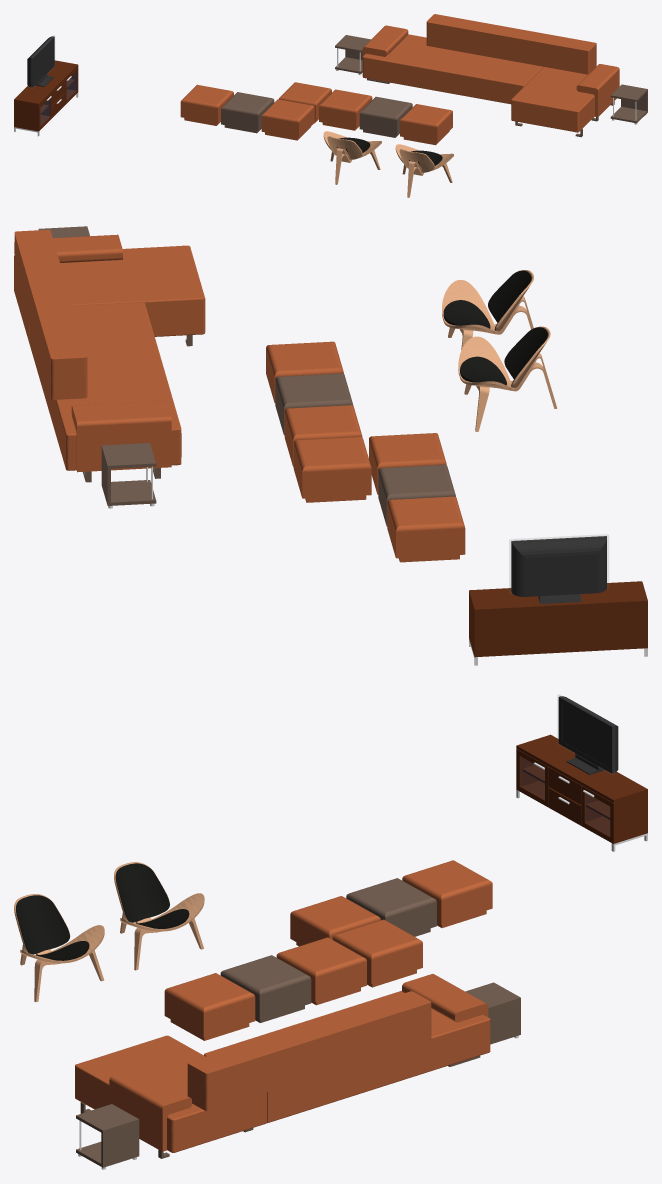
Rendered from rac_basic_sample_project_Level_1_Living_Rm_IfcFurnishingElement.dae.
3 renders of one model, top to bottom at view 1: azimuth 30°, elevation 25°; view 2: azimuth 150°, elevation 25°; view 3: azimuth 270°, elevation 25°, orthographic. The views are drawn at different scales.
Parts seen in each view (by area): view 1: 1hb7CWkynF4vPDja0y_oQN, 2PbrheIID1GfgGRPO3yx$6, 2PbrheIID1GfgGRPO3yxga, 1hb7CWkynF4vPDja0y_oEs, 2PbrheIID1GfgGRPO3yxeK, 2PbrheIID1GfgGRPO3yxiy, 2PbrheIID1GfgGRPO3yxjg, 2PbrheIID1GfgGRPO3yaMM, 20nhVaBTTAJguMI9o6oDPn, 1N_4TwOEH5194SbNmRTFml, 1mNYMX4dvDThNrJdPk$sEy, 1mNYMX4dvDThNrJdPk$ta$ (+2 smaller); view 2: 1hb7CWkynF4vPDja0y_oQN, 2PbrheIID1GfgGRPO3yx$6, 1mNYMX4dvDThNrJdPk$ta$, 2PbrheIID1GfgGRPO3yxiy, 2PbrheIID1GfgGRPO3yxeS, 1N_4TwOEH5194SbNmRTFml, 20nhVaBTTAJguMI9o6oDPn, 1mNYMX4dvDThNrJdPk$tmD, 2PbrheIID1GfgGRPO3yaMM, 2PbrheIID1GfgGRPO3yxjg, 2PbrheIID1GfgGRPO3yxeK, 1hb7CWkynF4vPDja0y_oEs (+1 smaller); view 3: 1hb7CWkynF4vPDja0y_oQN, 2PbrheIID1GfgGRPO3yx$6, 1hb7CWkynF4vPDja0y_oEs, 20nhVaBTTAJguMI9o6oDPn, 1N_4TwOEH5194SbNmRTFml, 2PbrheIID1GfgGRPO3yaMM, 2PbrheIID1GfgGRPO3yxiy, 2PbrheIID1GfgGRPO3yxeS, 2PbrheIID1GfgGRPO3yxeK, 1mNYMX4dvDThNrJdPk$ta$, 2PbrheIID1GfgGRPO3yxjg, 1mNYMX4dvDThNrJdPk$sEy (+2 smaller).
Boxes of the visible parts, bbox=[...] form: 1hb7CWkynF4vPDja0y_oQN: bbox=[362, 14, 619, 137]; 2PbrheIID1GfgGRPO3yx$6: bbox=[14, 60, 78, 136]; 2PbrheIID1GfgGRPO3yxga: bbox=[261, 99, 314, 140]; 1hb7CWkynF4vPDja0y_oEs: bbox=[400, 104, 452, 145]; 2PbrheIID1GfgGRPO3yxeK: bbox=[319, 89, 372, 130]; 2PbrheIID1GfgGRPO3yxiy: bbox=[180, 84, 233, 125]; 2PbrheIID1GfgGRPO3yxjg: bbox=[221, 92, 274, 133]; 2PbrheIID1GfgGRPO3yaMM: bbox=[359, 96, 412, 137]; 20nhVaBTTAJguMI9o6oDPn: bbox=[395, 144, 453, 197]; 1N_4TwOEH5194SbNmRTFml: bbox=[323, 131, 381, 184]; 1mNYMX4dvDThNrJdPk$sEy: bbox=[610, 84, 647, 124]; 1mNYMX4dvDThNrJdPk$ta$: bbox=[27, 35, 54, 88]; 1hb7CWkynF4vPDja0y_oQN: bbox=[14, 229, 205, 482]; 2PbrheIID1GfgGRPO3yx$6: bbox=[469, 581, 647, 665]; 1mNYMX4dvDThNrJdPk$ta$: bbox=[509, 534, 608, 603]; 2PbrheIID1GfgGRPO3yxiy: bbox=[387, 496, 465, 562]; 2PbrheIID1GfgGRPO3yxeS: bbox=[293, 437, 371, 502]; 1N_4TwOEH5194SbNmRTFml: bbox=[458, 326, 557, 431]; 20nhVaBTTAJguMI9o6oDPn: bbox=[442, 270, 540, 373]; 1mNYMX4dvDThNrJdPk$tmD: bbox=[101, 443, 156, 508]; 2PbrheIID1GfgGRPO3yaMM: bbox=[275, 373, 353, 435]; 2PbrheIID1GfgGRPO3yxjg: bbox=[378, 464, 455, 526]; 2PbrheIID1GfgGRPO3yxeK: bbox=[284, 405, 362, 466]; 1hb7CWkynF4vPDja0y_oEs: bbox=[266, 341, 343, 402]; 1hb7CWkynF4vPDja0y_oQN: bbox=[75, 974, 490, 1158]; 2PbrheIID1GfgGRPO3yx$6: bbox=[516, 734, 647, 851]; 1hb7CWkynF4vPDja0y_oEs: bbox=[164, 973, 255, 1040]; 20nhVaBTTAJguMI9o6oDPn: bbox=[14, 894, 104, 1002]; 1N_4TwOEH5194SbNmRTFml: bbox=[114, 862, 204, 970]; 2PbrheIID1GfgGRPO3yaMM: bbox=[220, 955, 311, 1022]; 2PbrheIID1GfgGRPO3yxiy: bbox=[402, 860, 492, 927]; 2PbrheIID1GfgGRPO3yxeS: bbox=[332, 919, 422, 987]; 2PbrheIID1GfgGRPO3yxeK: bbox=[276, 937, 366, 1005]; 1mNYMX4dvDThNrJdPk$ta$: bbox=[558, 695, 618, 774]; 2PbrheIID1GfgGRPO3yxjg: bbox=[346, 878, 436, 936]; 1mNYMX4dvDThNrJdPk$sEy: bbox=[76, 1104, 139, 1169].
Size of the model in its own units: 8.44 by 5.88 by 1.11.
